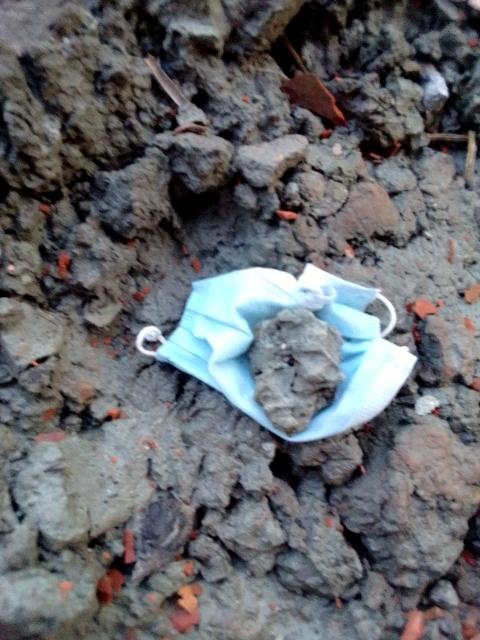mask: (128, 236, 435, 456)
